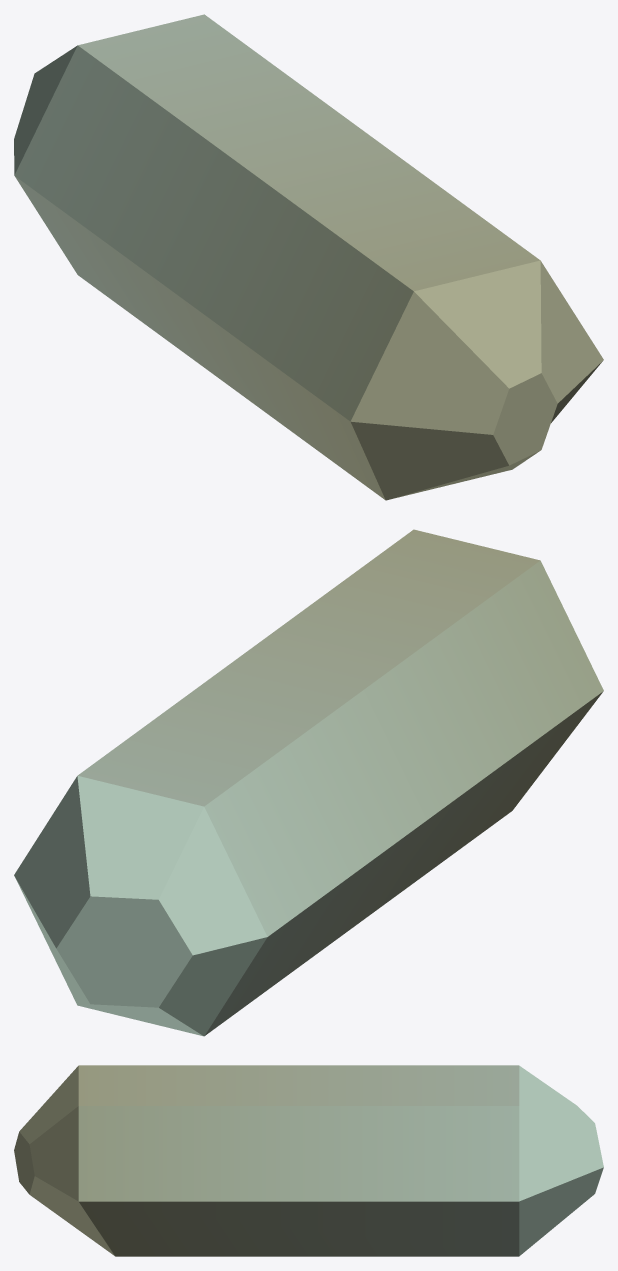
File: ColoredCrystal.005.glb
3 renders of one model, top to bottom at view 1: azimuth 30°, elevation 25°; view 2: azimuth 150°, elevation 25°; view 3: azimuth 270°, elevation 25°, orthographic. The views are drawn at different scales.
Visible parts, largest first — view 1: ColoredCrystal.005; view 2: ColoredCrystal.005; view 3: ColoredCrystal.005.
Part boxes in pixels (x1=…): ColoredCrystal.005: x1=14, y1=14, x2=603, y2=500; ColoredCrystal.005: x1=14, y1=529, x2=603, y2=1036; ColoredCrystal.005: x1=14, y1=1065, x2=603, y2=1256.
Bounding box in the file's own units: 150 × 130 × 460.
